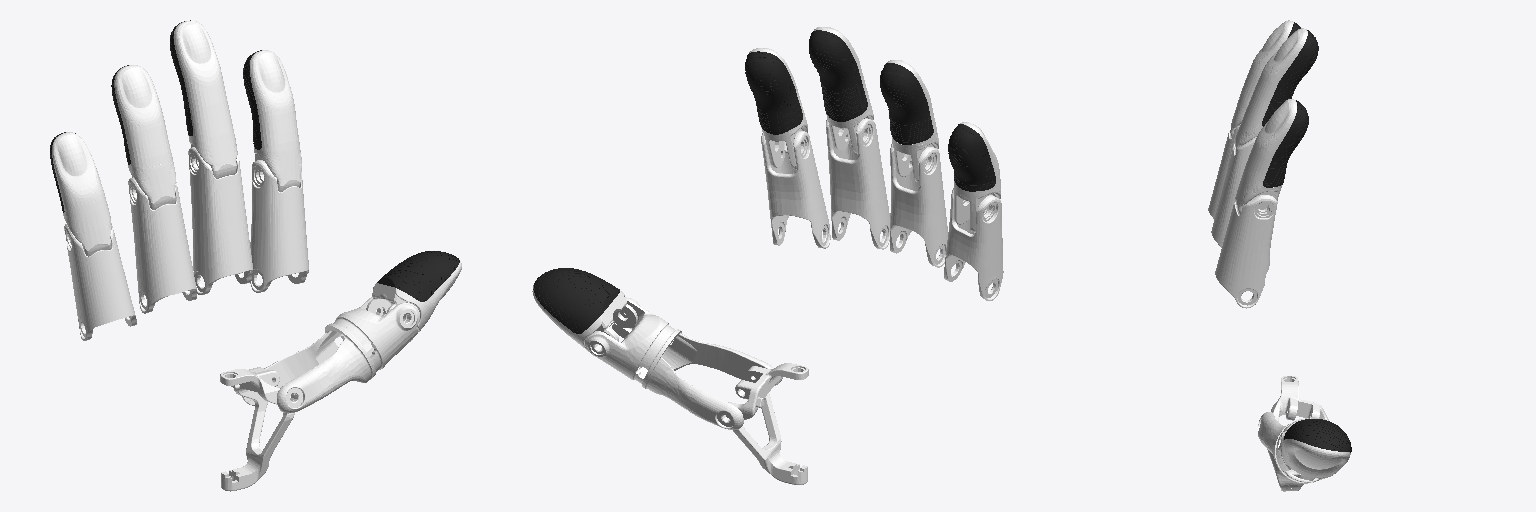
robot.urdf — DH116S-L000-A1:
<?xml version='1.0' encoding='UTF-8'?>
<!-- This URDF was automatically created by SolidWorks to URDF Exporter! Originally created by Stephen Brawner (brawner@gmail.com) 
     Commit Version: 1.6.0-4-g7f85cfe  Build Version: 1.6.7995.38578
     For more information, please see http://wiki.ros.org/sw_urdf_exporter --><robot name="DH116S-L000-A1">
  <!--
    Authoritative kinematic description for this hand is the MJCF model.

    Independent DOFs: finger11, finger12, finger21, finger31, finger41, finger51
    Passive follower joints:
      finger13 follows finger12
      finger22 follows finger21
      finger32 follows finger31
      finger42 follows finger41
      finger52 follows finger51

    Note: URDF mimic supports only linear coupling:
      q_follower = multiplier * q_driver + offset
    The MJCF model uses quadratic coupling for the passive joints. The mimic tags
    below therefore preserve the dependency and use least-squares linear fits over
    each driver's configured motion range, but they do not exactly reproduce the
    nonlinear MJCF equality constraints.
  -->
  <link name="base_link">
    <inertial>
      <origin xyz="0.000544524993373097 -0.00750466902165473 0.0473989905049091" rpy="0 0 0"/>
      <mass value="0.106661851888605"/>
      <inertia ixx="4.60958938891066E-05" ixy="-4.13539236103623E-08" ixz="1.98096595874894E-07" iyy="6.68395890156874E-05" iyz="1.57819216681043E-06" izz="2.99930119861266E-05"/>
    </inertial>
    <visual>
      <origin xyz="0 0 0" rpy="0 0 0"/>
      <geometry>
        <mesh filename="package://DH116S-L000-A1/meshes/base_link.STL"/>
      </geometry>
      <material name="">
        <color rgba="1 1 1 1"/>
      </material>
    </visual>
    <collision>
      <origin xyz="0 0 0" rpy="0 0 0"/>
      <geometry>
        <mesh filename="package://DH116S-L000-A1/meshes/base_link.STL"/>
      </geometry>
    </collision>
  </link>
  <link name="finger11_link">
    <inertial>
      <origin xyz="0.00880711190023678 0.00163343220926083 0.00136775413572365" rpy="0 0 0"/>
      <mass value="0.00703896093413542"/>
      <inertia ixx="9.90699426372342E-07" ixy="-1.94396154626989E-08" ixz="-9.77092169793553E-08" iyy="9.57269339123916E-07" iyz="-4.37556082720952E-08" izz="2.86923099019118E-07"/>
    </inertial>
    <visual>
      <origin xyz="0 0 0" rpy="0 0 0"/>
      <geometry>
        <mesh filename="package://DH116S-L000-A1/meshes/finger11_link.STL"/>
      </geometry>
      <material name="">
        <color rgba="1 1 1 1"/>
      </material>
    </visual>
    <collision>
      <origin xyz="0 0 0" rpy="0 0 0"/>
      <geometry>
        <mesh filename="package://DH116S-L000-A1/meshes/finger11_link.STL"/>
      </geometry>
    </collision>
  </link>
  <joint name="finger11" type="revolute">
    <origin xyz="0.0193521365394396 0.00780520239676655 0.0343200230340877" rpy="0 5.66182786981891E-05 0"/>
    <parent link="base_link"/>
    <child link="finger11_link"/>
    <axis xyz="0 0 1"/>
    <limit lower="0" upper="1.527163" effort="0" velocity="0"/>
  </joint>
  <link name="finger12_link">
    <inertial>
      <origin xyz="0.000626165204877099 -0.00814581305344735 0.020646424515226" rpy="0 0 0"/>
      <mass value="0.00572071000157471"/>
      <inertia ixx="1.08317641871166E-06" ixy="1.92569888242211E-09" ixz="-1.00701276813813E-08" iyy="1.26897009959513E-06" iyz="2.85476025728995E-07" izz="5.51662991743827E-07"/>
    </inertial>
    <visual>
      <origin xyz="0 0 0" rpy="0 0 0"/>
      <geometry>
        <mesh filename="package://DH116S-L000-A1/meshes/finger12_link.STL"/>
      </geometry>
      <material name="">
        <color rgba="1 1 1 1"/>
      </material>
    </visual>
    <collision>
      <origin xyz="0 0 0" rpy="0 0 0"/>
      <geometry>
        <mesh filename="package://DH116S-L000-A1/meshes/finger12_link.STL"/>
      </geometry>
    </collision>
  </link>
  <joint name="finger12" type="revolute">
    <origin xyz="0.0149999999999999 0.00241716818236522 0.00671430739572605" rpy="0.914542570706424 0.26179938779915 1.5707963267949"/>
    <parent link="finger11_link"/>
    <child link="finger12_link"/>
    <axis xyz="-1 0 0"/>
    <limit lower="0" upper="1.134464" effort="0" velocity="0"/>
  </joint>
  <link name="finger13_link">
    <inertial>
      <origin xyz="2.07998097687193E-05 -0.000735323631083362 0.00878868708953141" rpy="0 0 0"/>
      <mass value="0.00512347195060515"/>
      <inertia ixx="2.40948357970622E-07" ixy="-5.09925158040025E-10" ixz="-9.60120677468293E-10" iyy="3.07751224311247E-07" iyz="-7.35275312906535E-09" izz="1.6169760241038E-07"/>
    </inertial>
    <visual>
      <origin xyz="0 0 0" rpy="0 0 0"/>
      <geometry>
        <mesh filename="package://DH116S-L000-A1/meshes/finger13_link.STL"/>
      </geometry>
      <material name="">
        <color rgba="1 1 1 1"/>
      </material>
    </visual>
    <collision>
      <origin xyz="0 0 0" rpy="0 0 0"/>
      <geometry>
        <mesh filename="package://DH116S-L000-A1/meshes/finger13_link.STL"/>
      </geometry>
    </collision>
  </link>
  <joint name="finger13" type="revolute">
    <origin xyz="0.000907073874635978 -0.012631430230703 0.0382111085733653" rpy="0.320192464474519 0.0133797340704482 0.0102567262059099"/>
    <parent link="finger12_link"/>
    <child link="finger13_link"/>
    <axis xyz="-1 0 0"/>
    <limit lower="0" upper="1.13" effort="0" velocity="0"/>
    <mimic joint="finger12" multiplier="0.8626" offset="-0.003015929"/>
  </joint>
  <link name="finger14_link">
    <inertial>
      <origin xyz="-3.82292380026773E-06 0.00466183376594907 0.0121285985080434" rpy="0 0 0"/>
      <mass value="0.00240509776372723"/>
      <inertia ixx="6.51447989844391E-08" ixy="-3.50977911008853E-10" ixz="-5.25932270434576E-10" iyy="9.97646532599649E-08" iyz="3.06515732443468E-09" izz="5.51927068070888E-08"/>
    </inertial>
    <visual>
      <origin xyz="0 0 0" rpy="0 0 0"/>
      <geometry>
        <mesh filename="package://DH116S-L000-A1/meshes/finger14_link.STL"/>
      </geometry>
      <material name="">
        <color rgba="0.2 0.2 0.2 1"/>
      </material>
    </visual>
    <collision>
      <origin xyz="0 0 0" rpy="0 0 0"/>
      <geometry>
        <mesh filename="package://DH116S-L000-A1/meshes/finger14_link.STL"/>
      </geometry>
    </collision>
  </link>
  <joint name="finger14" type="fixed">
    <origin xyz="0 0 0" rpy="0 0 0"/>
    <parent link="finger13_link"/>
    <child link="finger14_link"/>
    <axis xyz="0 0 0"/>
  </joint>
  <link name="finger21_link">
    <inertial>
      <origin xyz="3.48658519827572E-06 0.000948250837583636 0.0145873180381056" rpy="0 0 0"/>
      <mass value="0.00393802264883532"/>
      <inertia ixx="3.15961467581521E-07" ixy="-4.20917811183589E-11" ixz="-5.78570860505374E-11" iyy="3.37002395494748E-07" iyz="-4.22831681499364E-08" izz="1.60677749968883E-07"/>
    </inertial>
    <visual>
      <origin xyz="0 0 0" rpy="0 0 0"/>
      <geometry>
        <mesh filename="package://DH116S-L000-A1/meshes/finger21_link.STL"/>
      </geometry>
      <material name="">
        <color rgba="1 1 1 1"/>
      </material>
    </visual>
    <collision>
      <origin xyz="0 0 0" rpy="0 0 0"/>
      <geometry>
        <mesh filename="package://DH116S-L000-A1/meshes/finger21_link.STL"/>
      </geometry>
    </collision>
  </link>
  <joint name="finger21" type="revolute">
    <origin xyz="0.0263221667373393 -0.00532638133131497 0.0839088174238425" rpy="0.0157127180588976 0.0976603903613511 0.159786795598776"/>
    <parent link="base_link"/>
    <child link="finger21_link"/>
    <axis xyz="-1 0 0"/>
    <limit lower="0" upper="1.256637" effort="0" velocity="0"/>
  </joint>
  <link name="finger22_link">
    <inertial>
      <origin xyz="3.4802021511543E-05 -0.0013486986363819 0.0109130316550571" rpy="0 0 0"/>
      <mass value="0.00359512240318104"/>
      <inertia ixx="3.71466761108892E-07" ixy="-1.29499027210776E-10" ixz="-2.16937317653213E-09" iyy="3.74376153910801E-07" iyz="-4.18381122144735E-08" izz="6.27182251872621E-08"/>
    </inertial>
    <visual>
      <origin xyz="0 0 0" rpy="0 0 0"/>
      <geometry>
        <mesh filename="package://DH116S-L000-A1/meshes/finger22_link.STL"/>
      </geometry>
      <material name="">
        <color rgba="1 1 1 1"/>
      </material>
    </visual>
    <collision>
      <origin xyz="0 0 0" rpy="0 0 0"/>
      <geometry>
        <mesh filename="package://DH116S-L000-A1/meshes/finger22_link.STL"/>
      </geometry>
    </collision>
  </link>
  <joint name="finger22" type="revolute">
    <origin xyz="0 0.00510326179486572 0.027558142915563" rpy="-0.183107378899691 0 0"/>
    <parent link="finger21_link"/>
    <child link="finger22_link"/>
    <axis xyz="-1 0 0"/>
    <limit lower="0" upper="1.75" effort="0" velocity="0"/>
    <mimic joint="finger21" multiplier="1.4238" offset="-0.064994316"/>
  </joint>
  <link name="finger23_link">
    <inertial>
      <origin xyz="7.82510692590443E-05 0.00383960022189855 0.0191163509786596" rpy="0 0 0"/>
      <mass value="0.00194918551000528"/>
      <inertia ixx="9.24802884509747E-08" ixy="2.86384855175092E-11" ixz="-2.8430749674239E-11" iyy="9.4711884333877E-08" iyz="-2.20774521775598E-08" izz="3.02506375048604E-08"/>
    </inertial>
    <visual>
      <origin xyz="0 0 0" rpy="0 0 0"/>
      <geometry>
        <mesh filename="package://DH116S-L000-A1/meshes/finger23_link.STL"/>
      </geometry>
      <material name="">
        <color rgba="0.2 0.2 0.2 1"/>
      </material>
    </visual>
    <collision>
      <origin xyz="0 0 0" rpy="0 0 0"/>
      <geometry>
        <mesh filename="package://DH116S-L000-A1/meshes/finger23_link.STL"/>
      </geometry>
    </collision>
  </link>
  <joint name="finger23" type="fixed">
    <origin xyz="0 0 0" rpy="0 0 0"/>
    <parent link="finger22_link"/>
    <child link="finger23_link"/>
    <axis xyz="0 0 0"/>
  </joint>
  <link name="finger31_link">
    <inertial>
      <origin xyz="2.43928457896447E-06 0.00125405351222651 0.0166476625726954" rpy="0 0 0"/>
      <mass value="0.00465629805037929"/>
      <inertia ixx="4.64033183836396E-07" ixy="-6.96661919362374E-11" ixz="-4.25124779854874E-11" iyy="4.82279099347931E-07" iyz="-6.61666793058518E-08" izz="1.92342304939614E-07"/>
    </inertial>
    <visual>
      <origin xyz="0 0 0" rpy="0 0 0"/>
      <geometry>
        <mesh filename="package://DH116S-L000-A1/meshes/finger31_link.STL"/>
      </geometry>
      <material name="">
        <color rgba="1 1 1 1"/>
      </material>
    </visual>
    <collision>
      <origin xyz="0 0 0" rpy="0 0 0"/>
      <geometry>
        <mesh filename="package://DH116S-L000-A1/meshes/finger31_link.STL"/>
      </geometry>
    </collision>
  </link>
  <joint name="finger31" type="revolute">
    <origin xyz="0.00853056012195752 -0.00653399721710813 0.08818546795159" rpy="0.000712944465730327 0.0134076578043506 0.0531259881623533"/>
    <parent link="base_link"/>
    <child link="finger31_link"/>
    <axis xyz="-1 0 0"/>
    <limit lower="0" upper="1.256637" effort="0" velocity="0"/>
  </joint>
  <link name="finger32_link">
    <inertial>
      <origin xyz="5.01008760783739E-07 0.00197036044989129 0.0124117968912229" rpy="0 0 0"/>
      <mass value="0.00396494093318317"/>
      <inertia ixx="5.13626527975483E-07" ixy="-6.50187509823643E-10" ixz="-1.427207122136E-09" iyy="4.59220436955248E-07" iyz="-1.60262467986869E-07" izz="1.2884536852607E-07"/>
    </inertial>
    <visual>
      <origin xyz="0 0 0" rpy="0 0 0"/>
      <geometry>
        <mesh filename="package://DH116S-L000-A1/meshes/finger32_link.STL"/>
      </geometry>
      <material name="">
        <color rgba="1 1 1 1"/>
      </material>
    </visual>
    <collision>
      <origin xyz="0 0 0" rpy="0 0 0"/>
      <geometry>
        <mesh filename="package://DH116S-L000-A1/meshes/finger32_link.STL"/>
      </geometry>
    </collision>
  </link>
  <joint name="finger32" type="revolute">
    <origin xyz="0 0.00597179476535116 0.031978135864213" rpy="0 0 0"/>
    <parent link="finger31_link"/>
    <child link="finger32_link"/>
    <axis xyz="-1 0 0"/>
    <limit lower="0" upper="1.75" effort="0" velocity="0"/>
    <mimic joint="finger31" multiplier="1.451" offset="-0.075338882"/>
  </joint>
  <link name="finger33_link">
    <inertial>
      <origin xyz="-8.36698258038782E-07 0.00923385266648058 0.019768310971155" rpy="0 0 0"/>
      <mass value="0.00227281439382211"/>
      <inertia ixx="1.47849455761078E-07" ixy="-3.47553525565444E-12" ixz="4.73897847071394E-12" iyy="1.24393141276961E-07" iyz="-5.64492431895065E-08" izz="5.96778300199862E-08"/>
    </inertial>
    <visual>
      <origin xyz="0 0 0" rpy="0 0 0"/>
      <geometry>
        <mesh filename="package://DH116S-L000-A1/meshes/finger33_link.STL"/>
      </geometry>
      <material name="">
        <color rgba="0.2 0.2 0.2 1"/>
      </material>
    </visual>
    <collision>
      <origin xyz="0 0 0" rpy="0 0 0"/>
      <geometry>
        <mesh filename="package://DH116S-L000-A1/meshes/finger33_link.STL"/>
      </geometry>
    </collision>
  </link>
  <joint name="finger33" type="fixed">
    <origin xyz="0 0 0" rpy="0 0 0"/>
    <parent link="finger32_link"/>
    <child link="finger33_link"/>
    <axis xyz="0 0 0"/>
  </joint>
  <link name="finger41_link">
    <inertial>
      <origin xyz="2.05886925985777E-06 0.00090785719008161 0.0149119186393758" rpy="0 0 0"/>
      <mass value="0.00414279060803409"/>
      <inertia ixx="3.62106671626076E-07" ixy="-5.103578461109E-11" ixz="-3.5507325901272E-11" iyy="3.80908507437567E-07" iyz="-5.38270721397437E-08" izz="1.70352561515995E-07"/>
    </inertial>
    <visual>
      <origin xyz="0 0 0" rpy="0 0 0"/>
      <geometry>
        <mesh filename="package://DH116S-L000-A1/meshes/finger41_link.STL"/>
      </geometry>
      <material name="">
        <color rgba="1 1 1 1"/>
      </material>
    </visual>
    <collision>
      <origin xyz="0 0 0" rpy="0 0 0"/>
      <geometry>
        <mesh filename="package://DH116S-L000-A1/meshes/finger41_link.STL"/>
      </geometry>
    </collision>
  </link>
  <joint name="finger41" type="revolute">
    <origin xyz="-0.00888762654492145 -0.00728133879903732 0.087396405615583" rpy="0.00302662499820262 -0.0615538222955632 -0.0491619519178472"/>
    <parent link="base_link"/>
    <child link="finger41_link"/>
    <axis xyz="-1 0 0"/>
    <limit lower="0" upper="1.256637" effort="0" velocity="0"/>
  </joint>
  <link name="finger42_link">
    <inertial>
      <origin xyz="2.84390017567804E-05 0.00112452617014073 0.0112028625820284" rpy="0 0 0"/>
      <mass value="0.00382854887772676"/>
      <inertia ixx="3.99470431936905E-07" ixy="-5.67931499263376E-10" ixz="-2.20703573764736E-09" iyy="3.69872009847734E-07" iyz="-1.08637975960505E-07" izz="9.9693004199021E-08"/>
    </inertial>
    <visual>
      <origin xyz="0 0 0" rpy="0 0 0"/>
      <geometry>
        <mesh filename="package://DH116S-L000-A1/meshes/finger42_link.STL"/>
      </geometry>
      <material name="">
        <color rgba="1 1 1 1"/>
      </material>
    </visual>
    <collision>
      <origin xyz="0 0 0" rpy="0 0 0"/>
      <geometry>
        <mesh filename="package://DH116S-L000-A1/meshes/finger42_link.STL"/>
      </geometry>
    </collision>
  </link>
  <joint name="finger42" type="revolute">
    <origin xyz="0 0.0054849861571379 0.0290146270636347" rpy="0 0 0"/>
    <parent link="finger41_link"/>
    <child link="finger42_link"/>
    <axis xyz="-1 0 0"/>
    <limit lower="0" upper="1.75" effort="0" velocity="0"/>
    <mimic joint="finger41" multiplier="1.4752" offset="-0.080705770"/>
  </joint>
  <link name="finger43_link">
    <inertial>
      <origin xyz="8.26566494929459E-05 0.0080032742682453 0.0186602518602537" rpy="0 0 0"/>
      <mass value="0.00194917712642498"/>
      <inertia ixx="9.24798762660555E-08" ixy="2.85735039571308E-11" ixz="-6.99992684169389E-11" iyy="8.29792742143362E-08" iyz="-3.32575242019174E-08" izz="4.19842737997981E-08"/>
    </inertial>
    <visual>
      <origin xyz="0 0 0" rpy="0 0 0"/>
      <geometry>
        <mesh filename="package://DH116S-L000-A1/meshes/finger43_link.STL"/>
      </geometry>
      <material name="">
        <color rgba="0.2 0.2 0.2 1"/>
      </material>
    </visual>
    <collision>
      <origin xyz="0 0 0" rpy="0 0 0"/>
      <geometry>
        <mesh filename="package://DH116S-L000-A1/meshes/finger43_link.STL"/>
      </geometry>
    </collision>
  </link>
  <joint name="finger43" type="fixed">
    <origin xyz="0 0 0" rpy="0 0 0"/>
    <parent link="finger42_link"/>
    <child link="finger43_link"/>
    <axis xyz="0 0 0"/>
  </joint>
  <link name="finger51_link">
    <inertial>
      <origin xyz="2.41601579473172E-06 -0.00181484079250304 0.013139258005117" rpy="0 0 0"/>
      <mass value="0.00345036527036827"/>
      <inertia ixx="2.37942641790154E-07" ixy="-5.32043409424851E-12" ixz="-8.79535456047855E-11" iyy="2.69109132278489E-07" iyz="-7.2412901851165E-09" izz="1.35190326045818E-07"/>
    </inertial>
    <visual>
      <origin xyz="0 0 0" rpy="0 0 0"/>
      <geometry>
        <mesh filename="package://DH116S-L000-A1/meshes/finger51_link.STL"/>
      </geometry>
      <material name="">
        <color rgba="1 1 1 1"/>
      </material>
    </visual>
    <collision>
      <origin xyz="0 0 0" rpy="0 0 0"/>
      <geometry>
        <mesh filename="package://DH116S-L000-A1/meshes/finger51_link.STL"/>
      </geometry>
    </collision>
  </link>
  <joint name="finger51" type="revolute">
    <origin xyz="-0.0264481824708094 -0.0055488670962835 0.0829799586736383" rpy="-0.153756050317575 -0.150571871776981 -0.147041448694914"/>
    <parent link="base_link"/>
    <child link="finger51_link"/>
    <axis xyz="-1 0 0"/>
    <limit lower="0" upper="1.256637" effort="0" velocity="0"/>
  </joint>
  <link name="finger52_link">
    <inertial>
      <origin xyz="3.15909470655629E-05 0.000420621153260112 0.00853927270244959" rpy="0 0 0"/>
      <mass value="0.00345865291103541"/>
      <inertia ixx="2.5318519633019E-07" ixy="-2.39436526506233E-10" ixz="-1.04452087253161E-09" iyy="2.40188074028539E-07" iyz="-5.52012080873732E-08" izz="7.82039203203485E-08"/>
    </inertial>
    <visual>
      <origin xyz="0 0 0" rpy="0 0 0"/>
      <geometry>
        <mesh filename="package://DH116S-L000-A1/meshes/finger52_link.STL"/>
      </geometry>
      <material name="">
        <color rgba="1 1 1 1"/>
      </material>
    </visual>
    <collision>
      <origin xyz="0 0 0" rpy="0 0 0"/>
      <geometry>
        <mesh filename="package://DH116S-L000-A1/meshes/finger52_link.STL"/>
      </geometry>
    </collision>
  </link>
  <joint name="finger52" type="revolute">
    <origin xyz="0 0 0.0250241718362191" rpy="0.175969487717828 0 0"/>
    <parent link="finger51_link"/>
    <child link="finger52_link"/>
    <axis xyz="-1 0 0"/>
    <limit lower="0" upper="1.75" effort="0" velocity="0"/>
    <mimic joint="finger51" multiplier="1.3517" offset="-0.085489717"/>
  </joint>
  <link name="finger53_link">
    <inertial>
      <origin xyz="0.000103786229699587 0.00707344092632247 0.0157672382146304" rpy="0 0 0"/>
      <mass value="0.00149700207994512"/>
      <inertia ixx="4.39757858831556E-08" ixy="9.14180234774832E-11" ixz="2.33368010245624E-10" iyy="4.12565550714953E-08" iyz="-1.41132607567297E-08" izz="2.55293698498865E-08"/>
    </inertial>
    <visual>
      <origin xyz="0 0 0" rpy="0 0 0"/>
      <geometry>
        <mesh filename="package://DH116S-L000-A1/meshes/finger53_link.STL"/>
      </geometry>
      <material name="">
        <color rgba="0.2 0.2 0.2 1"/>
      </material>
    </visual>
    <collision>
      <origin xyz="0 0 0" rpy="0 0 0"/>
      <geometry>
        <mesh filename="package://DH116S-L000-A1/meshes/finger53_link.STL"/>
      </geometry>
    </collision>
  </link>
  <joint name="finger53" type="fixed">
    <origin xyz="0 0 0" rpy="0 0 0"/>
    <parent link="finger52_link"/>
    <child link="finger53_link"/>
    <axis xyz="0 0 0"/>
  </joint>
</robot>

--- Render facts (derived) ---
3 views of the same robot in one strip: view 1: azimuth 30°, elevation 25°; view 2: azimuth 150°, elevation 25°; view 3: azimuth 270°, elevation 25° (orthographic).
Robot: DH116S-L000-A1 — 17 links, 16 joints (11 revolute, 5 fixed); root link base_link; default pose: all joints at 0.
Visible links, largest first — view 1: finger12_link, finger31_link, finger32_link, finger21_link, finger41_link, finger42_link, finger22_link, finger52_link, finger51_link, finger11_link, finger14_link, finger13_link (+2 smaller); view 2: finger12_link, finger31_link, finger41_link, finger21_link, finger51_link, finger11_link, finger14_link, finger33_link, finger23_link, finger43_link, finger53_link, finger13_link (+4 smaller); view 3: finger21_link, finger22_link, finger32_link, finger13_link, finger11_link, finger31_link, finger14_link, finger42_link, finger33_link, finger23_link, finger12_link, finger41_link.
Link boxes in pixels (left/top/right/bottom): finger12_link: left=242, top=297, right=419, bottom=413; finger31_link: left=188, top=147, right=252, bottom=294; finger32_link: left=174, top=21, right=237, bottom=178; finger21_link: left=250, top=160, right=308, bottom=292; finger41_link: left=128, top=177, right=196, bottom=313; finger42_link: left=114, top=65, right=175, bottom=209; finger22_link: left=250, top=50, right=301, bottom=191; finger52_link: left=52, top=132, right=111, bottom=256; finger51_link: left=64, top=223, right=136, bottom=340; finger11_link: left=220, top=367, right=294, bottom=491; finger14_link: left=377, top=251, right=459, bottom=301; finger13_link: left=366, top=261, right=461, bottom=341; finger12_link: left=585, top=297, right=773, bottom=429; finger31_link: left=826, top=118, right=889, bottom=249; finger41_link: left=890, top=142, right=947, bottom=267; finger21_link: left=761, top=131, right=830, bottom=248; finger51_link: left=944, top=188, right=1003, bottom=300; finger11_link: left=726, top=363, right=808, bottom=484; finger14_link: left=533, top=268, right=619, bottom=333; finger33_link: left=809, top=30, right=867, bottom=121; finger23_link: left=745, top=51, right=802, bottom=134; finger43_link: left=880, top=63, right=933, bottom=144; finger53_link: left=948, top=124, right=995, bottom=191; finger13_link: left=532, top=285, right=637, bottom=352; finger21_link: left=1215, top=195, right=1277, bottom=308; finger22_link: left=1235, top=99, right=1296, bottom=214; finger32_link: left=1235, top=28, right=1307, bottom=152; finger13_link: left=1282, top=438, right=1350, bottom=480; finger11_link: left=1267, top=376, right=1328, bottom=491; finger31_link: left=1211, top=137, right=1256, bottom=247; finger14_link: left=1284, top=419, right=1351, bottom=452; finger42_link: left=1230, top=20, right=1293, bottom=137; finger33_link: left=1262, top=30, right=1318, bottom=126; finger23_link: left=1263, top=100, right=1308, bottom=187; finger12_link: left=1258, top=412, right=1337, bottom=483; finger41_link: left=1208, top=124, right=1240, bottom=218.
Size in the robot's own frame: 0.1321 by 0.041 by 0.1381 metres.
Meshes: 17 distinct files referenced, 16 mesh visuals loaded (16 binary STL); not drawn: 1 (reference not matched to a file when rendering).
